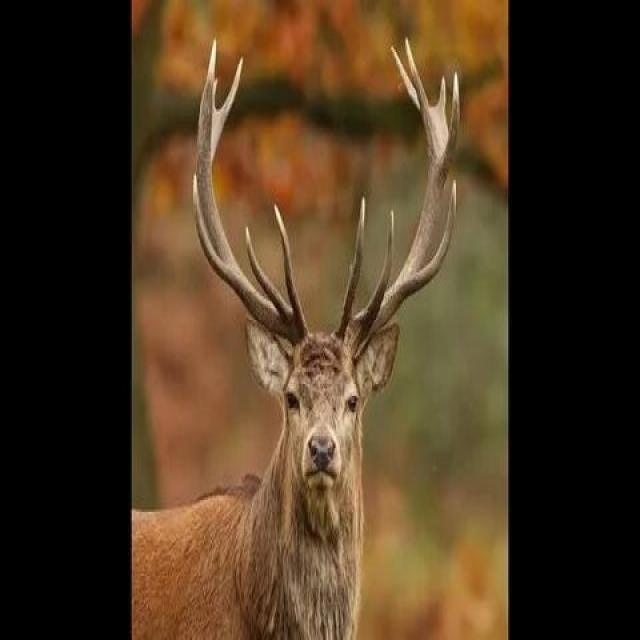deer: (148, 40, 468, 640)
